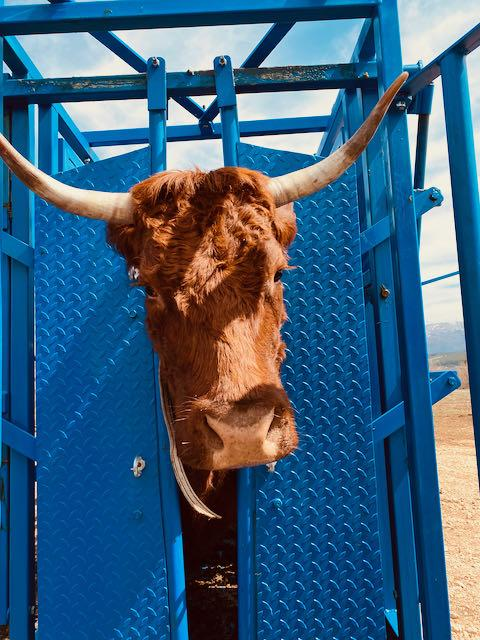muzzles: (167, 396, 303, 477)
